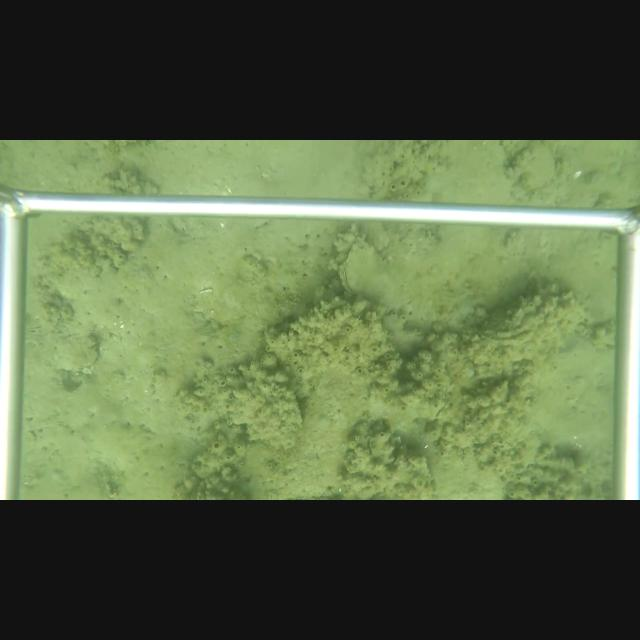Oyster-Closed: (178, 355, 309, 453), (336, 235, 414, 317), (51, 332, 101, 372)
Oyster-Open: (475, 324, 536, 347)
